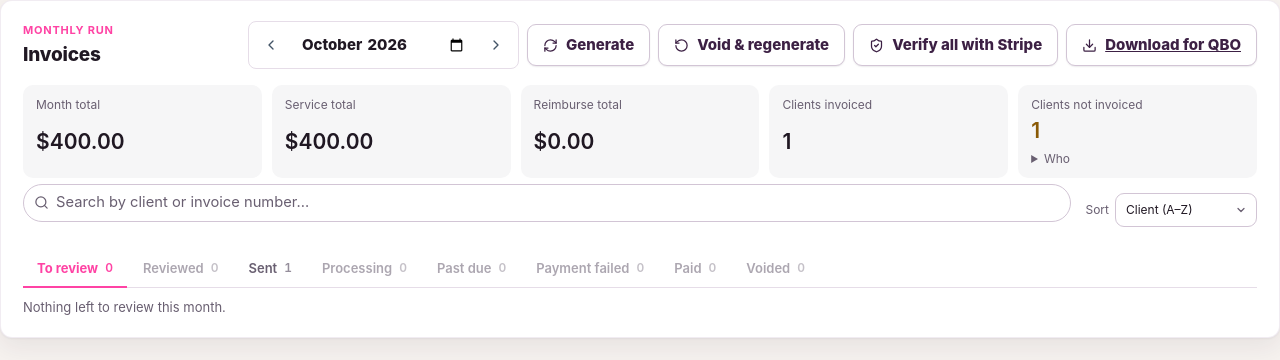
the Processing tab › says "No bank payments clearing." when nothing is clearing
The width and height of the screenshot is (1280, 360).
Click the tab "Processing 0". click: click(364, 269)
box: [308,250,421,288]
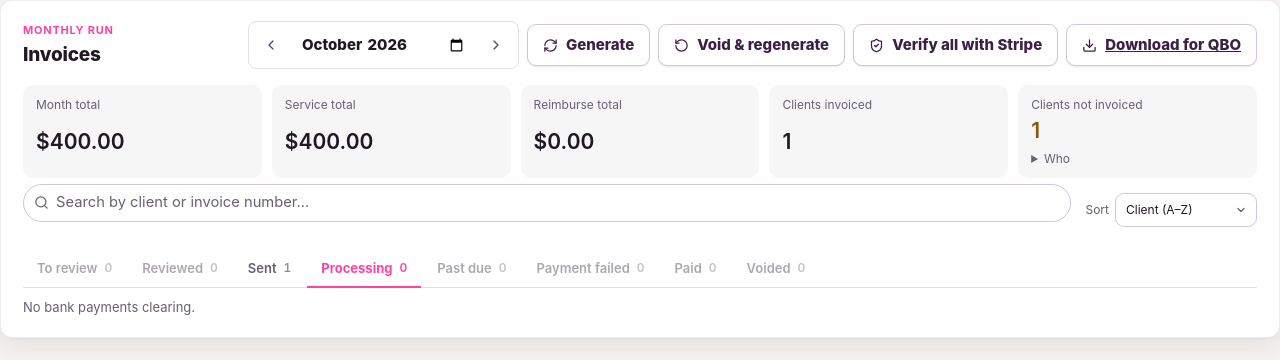
Expected: the text "No bank payments clearing." is shown, [23,299,195,315]
